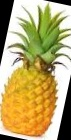Pineapple: (3, 2, 67, 136)
